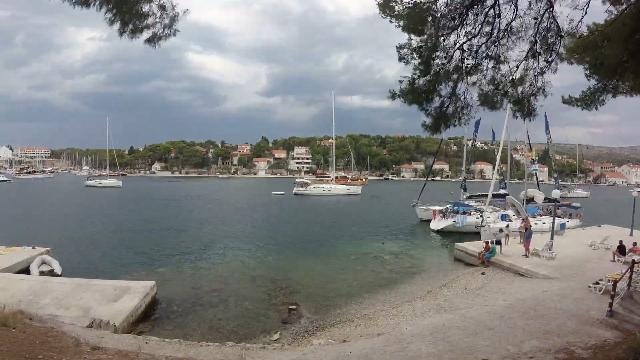Freighter: (310, 166, 372, 186), (9, 164, 59, 180)
Sailboat: (290, 174, 368, 198), (80, 171, 126, 191)
